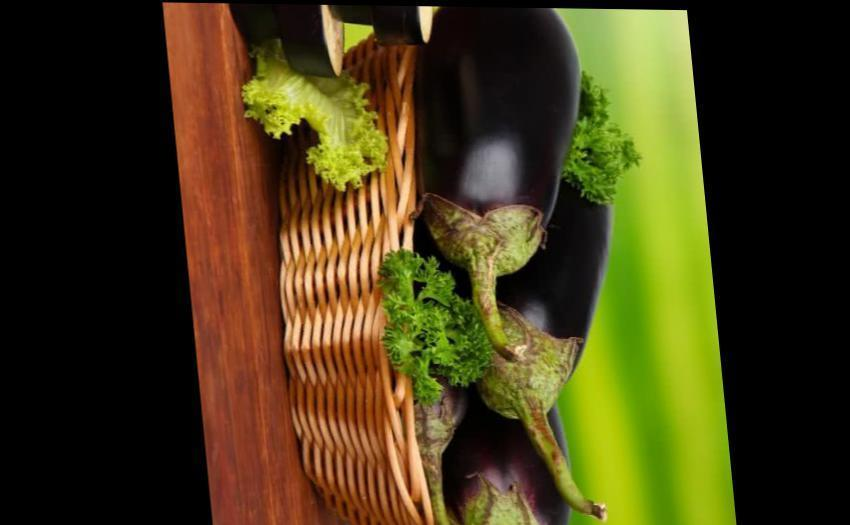eggplant: (400, 4, 637, 524)
